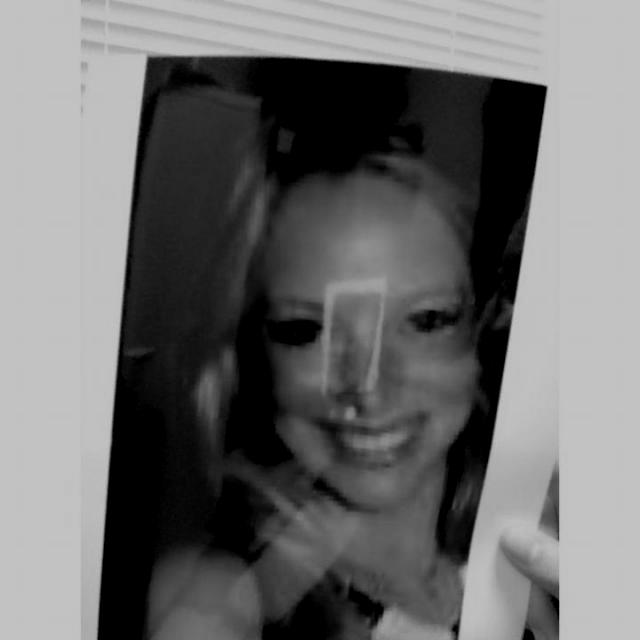fake: (86, 51, 557, 638)
